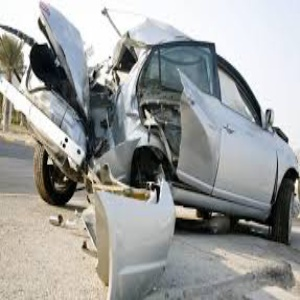door: (159, 108, 255, 182)
